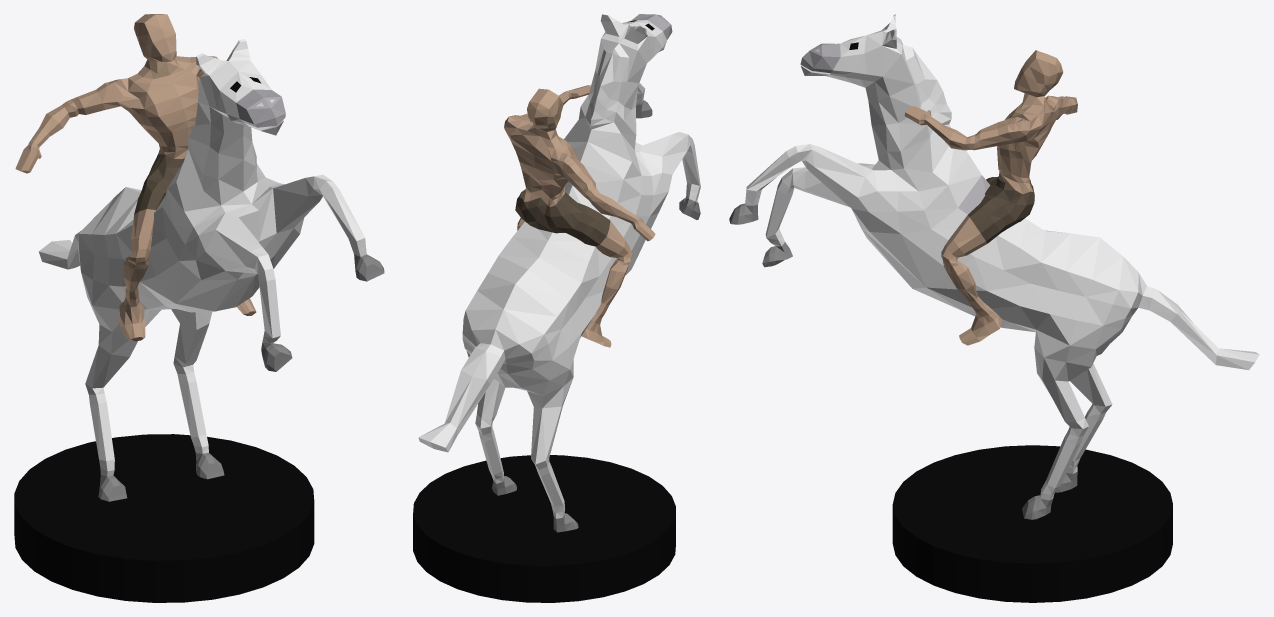
Rendered from Male_horse.gltf.
3 renders of one model, left to right at view 1: azimuth 30°, elevation 25°; view 2: azimuth 150°, elevation 25°; view 3: azimuth 270°, elevation 25°, orthographic. The views are drawn at different scales.
Parts seen in each view (by area): view 1: Cylinder.001, Cylinder.002, Cylinder; view 2: Cylinder.001, Cylinder.002, Cylinder; view 3: Cylinder.001, Cylinder.002, Cylinder.
Part boxes in pixels (<box>): Cylinder.001: <box>38,39,384,501</box>; Cylinder.002: <box>14,434,314,602</box>; Cylinder: <box>15,14,256,341</box>; Cylinder.001: <box>418,14,700,532</box>; Cylinder.002: <box>413,455,675,602</box>; Cylinder: <box>504,85,655,347</box>; Cylinder.001: <box>729,14,1259,519</box>; Cylinder.002: <box>892,445,1172,602</box>; Cylinder: <box>904,50,1077,345</box>.
Size of the model in its own units: 4.15 by 8.21 by 7.66.
